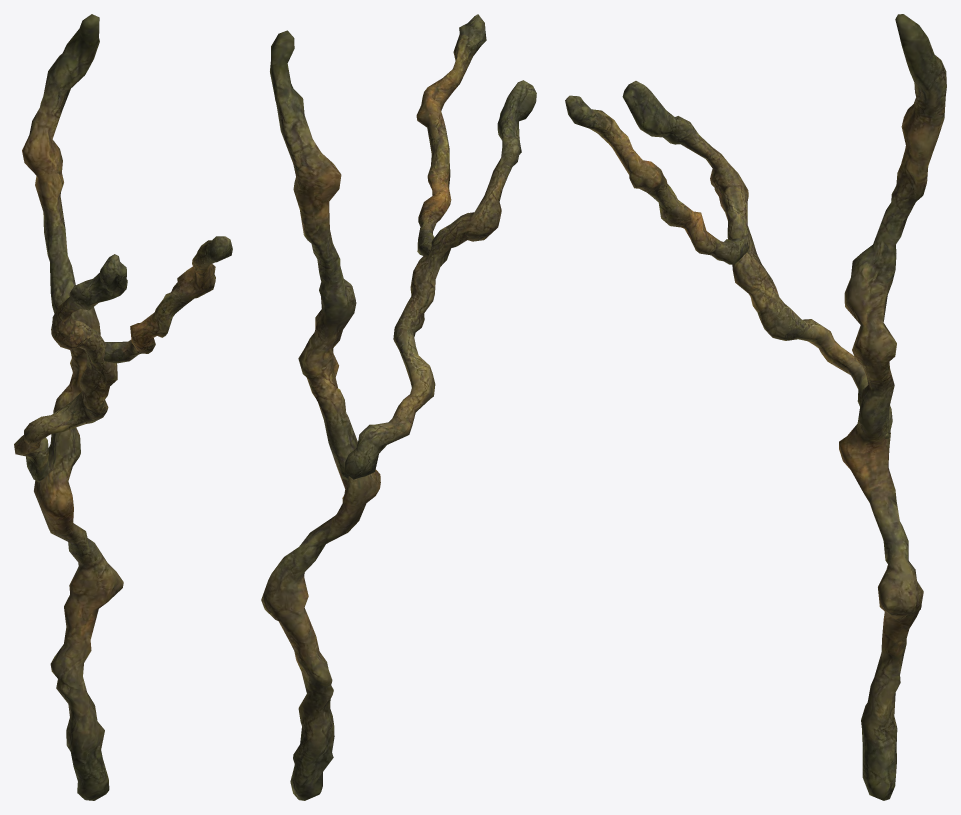
File: Biomass - TC 2-DbxSVQcf.glb
The picture shows the model from 3 angles, left to right: view 1: azimuth 30°, elevation 25°; view 2: azimuth 150°, elevation 25°; view 3: azimuth 270°, elevation 25°; orthographic projection. The views are drawn at different scales.
Visible parts, largest first — view 1: BiomassTC_2; view 2: BiomassTC_2; view 3: BiomassTC_2.
Part boxes in pixels (<box>): BiomassTC_2: <box>14,14,232,800</box>; BiomassTC_2: <box>261,14,536,800</box>; BiomassTC_2: <box>565,14,946,800</box>.
Bounding box in the file's own units: 0.7505 × 3.67 × 1.61.
1 material, 1 textured.
